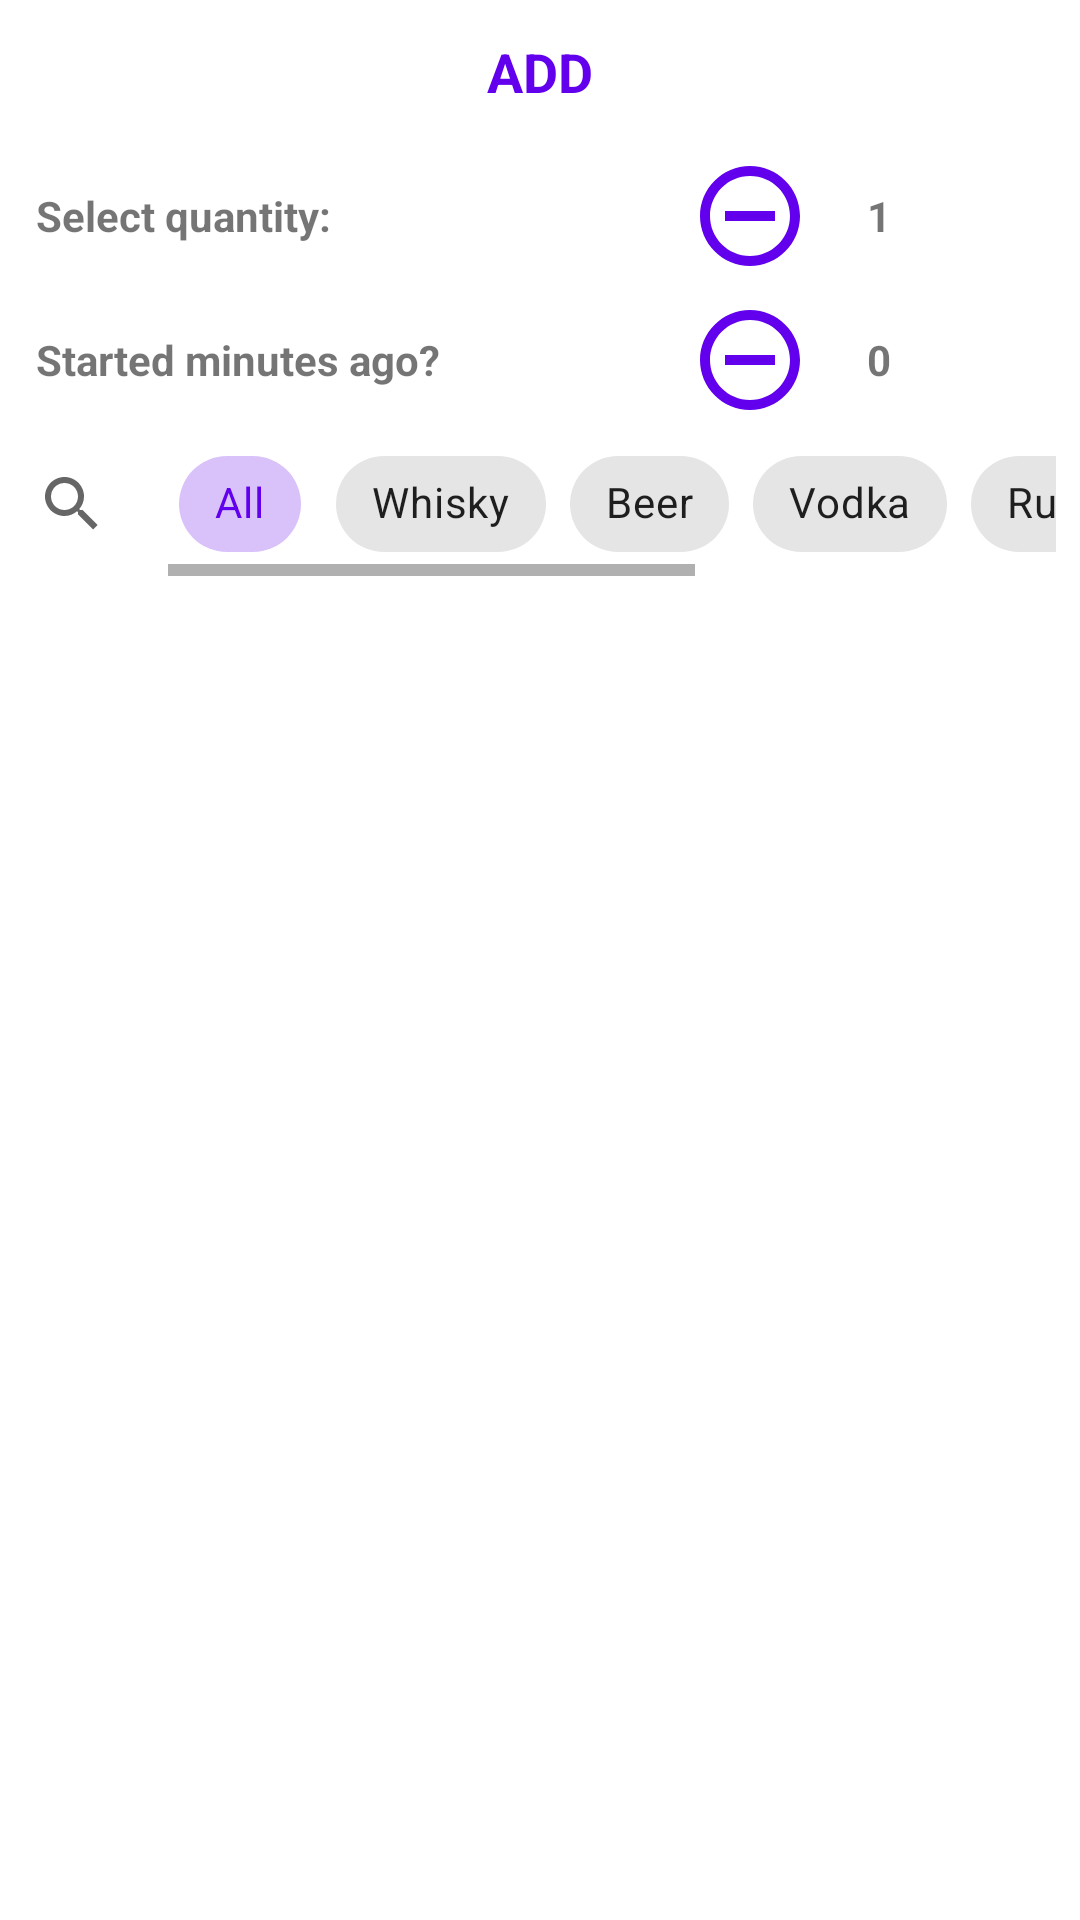

Icons on this 1080 × 1920 Android screen, each with its box as (x1, y1, x2, y2):
remove circle: (700, 166, 800, 266), (700, 310, 800, 410)
